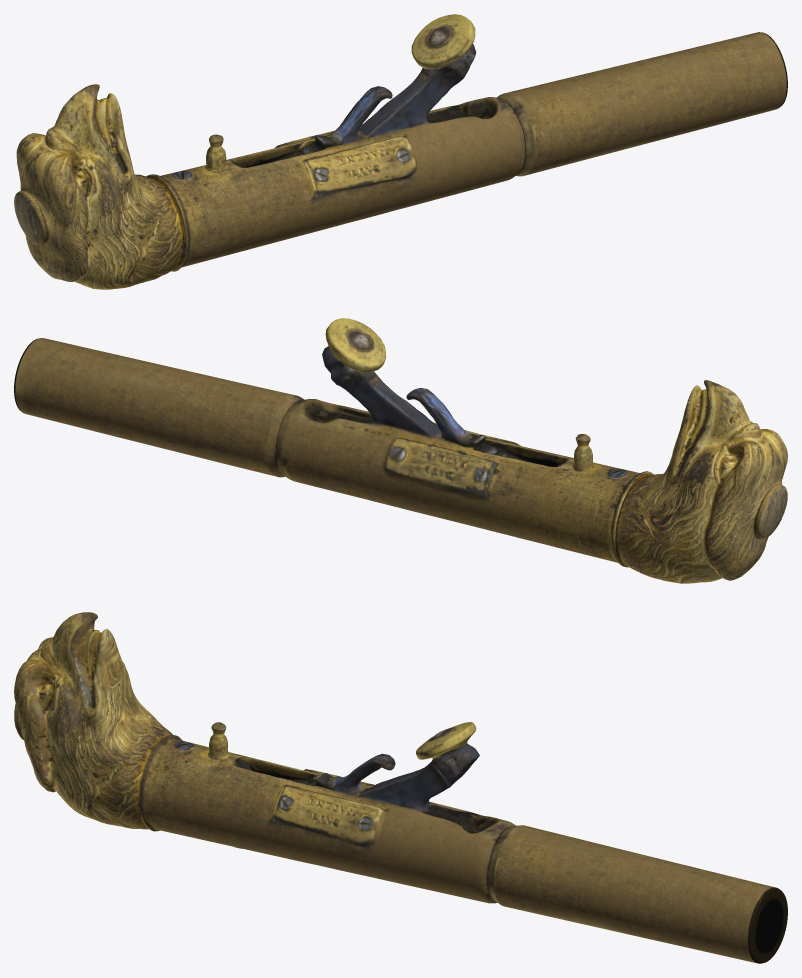
The model's file is Gun_377_01.gltf.
The picture shows the model from 3 angles, top to bottom: view 1: azimuth 30°, elevation 25°; view 2: azimuth 150°, elevation 25°; view 3: azimuth 330°, elevation 25°; orthographic projection.
Parts seen in each view (by area): view 1: Zbrush:Group44280.001; view 2: Zbrush:Group44280.001; view 3: Zbrush:Group44280.001.
Boxes of the visible parts, x1,y1,x2,y2 form: Zbrush:Group44280.001: [14, 14, 787, 289]; Zbrush:Group44280.001: [14, 318, 787, 583]; Zbrush:Group44280.001: [14, 612, 787, 963].
Bounding box in the file's own units: 0.501 × 0.1305 × 0.0642.
Materials: 1 (1 with a texture image).
